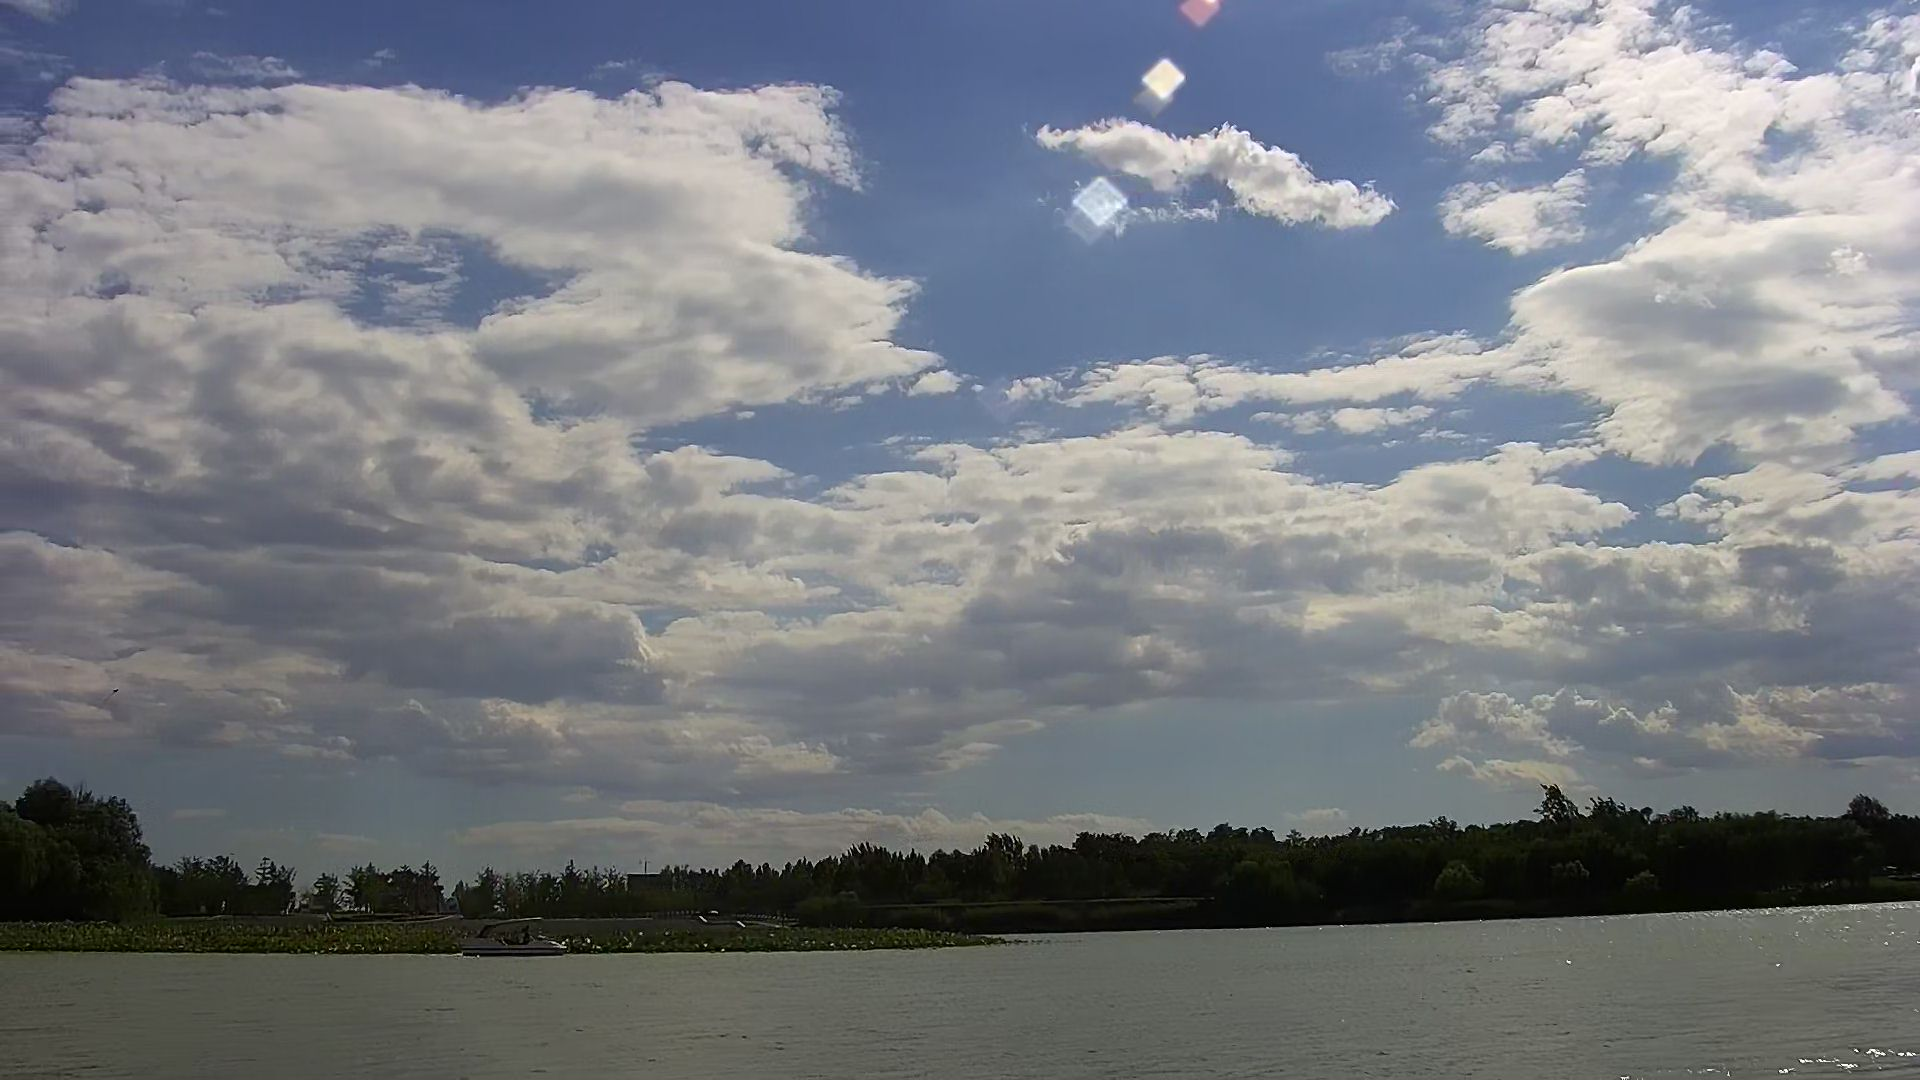boat: (452, 909, 582, 963)
